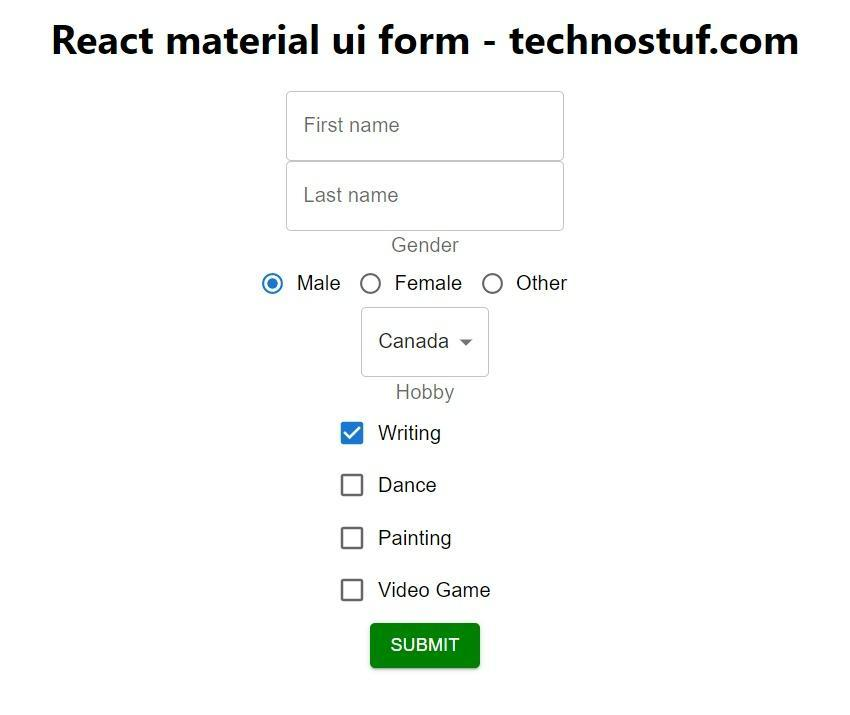button: (370, 624, 483, 671)
checkbox: (341, 421, 366, 447), (341, 579, 365, 603), (341, 475, 365, 498), (341, 528, 365, 550)
dropdown: (362, 308, 490, 378)
input: (286, 90, 567, 162), (287, 163, 565, 229)
label: (44, 19, 801, 59), (376, 581, 493, 603), (378, 529, 454, 551), (376, 423, 446, 446), (389, 235, 462, 256), (376, 476, 441, 499), (394, 273, 465, 293), (393, 383, 459, 403), (515, 276, 570, 294), (296, 274, 341, 293)
radio: (480, 272, 505, 295), (360, 272, 383, 295), (263, 273, 284, 295)
